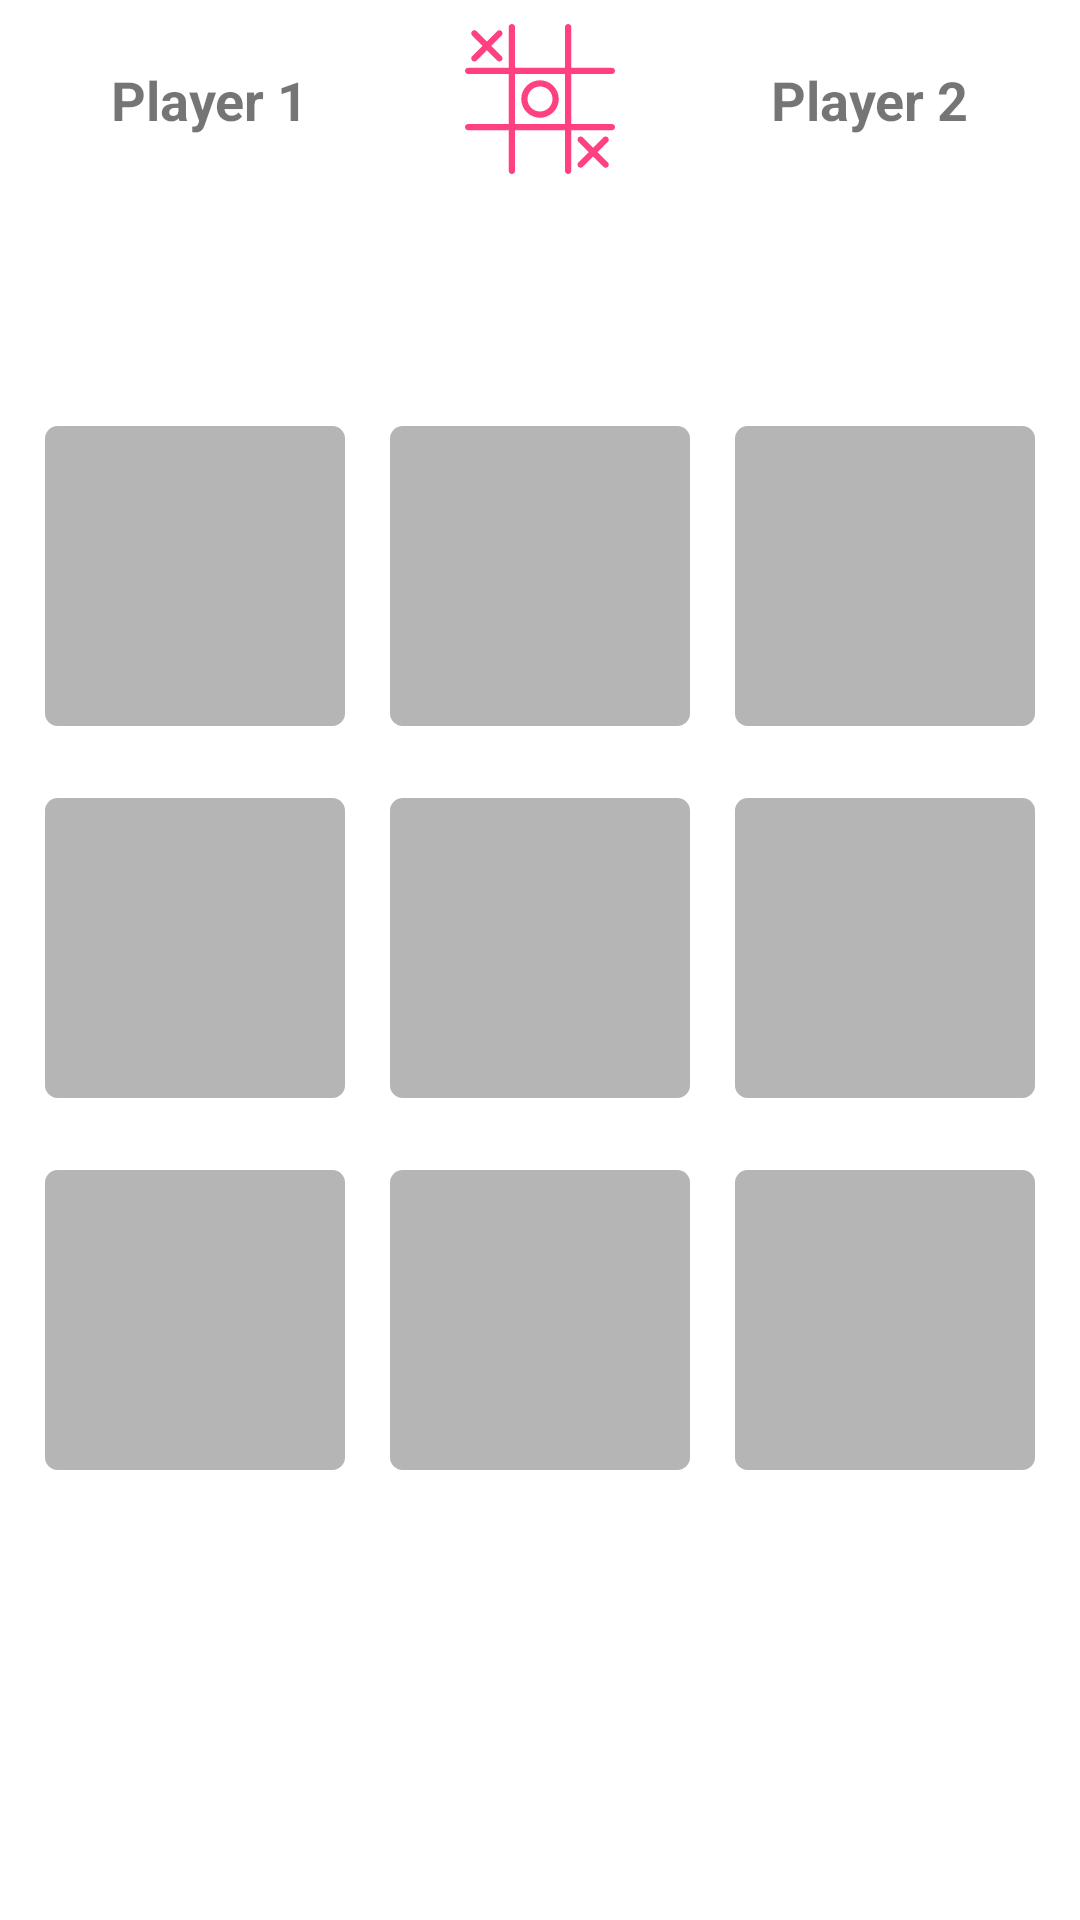

Where to tap for icons on this 1080 × 1920 app screen, as (x=x, y=y):
tic tac toe: (x=540, y=99)
